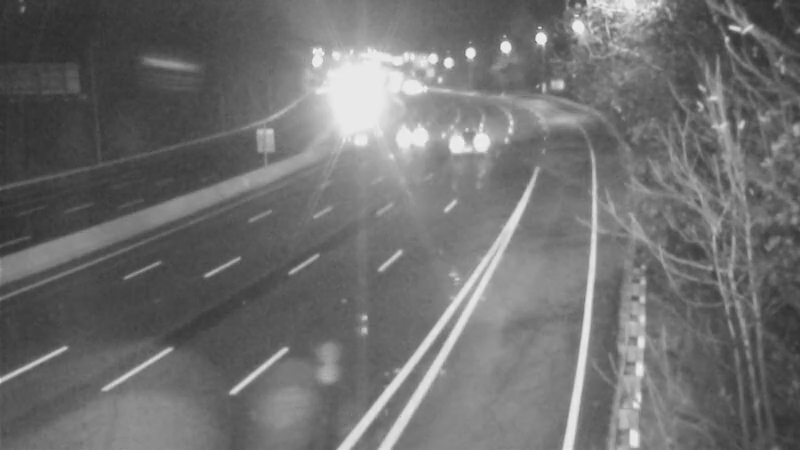vehicle: (386, 108, 436, 158), (440, 116, 490, 166)
